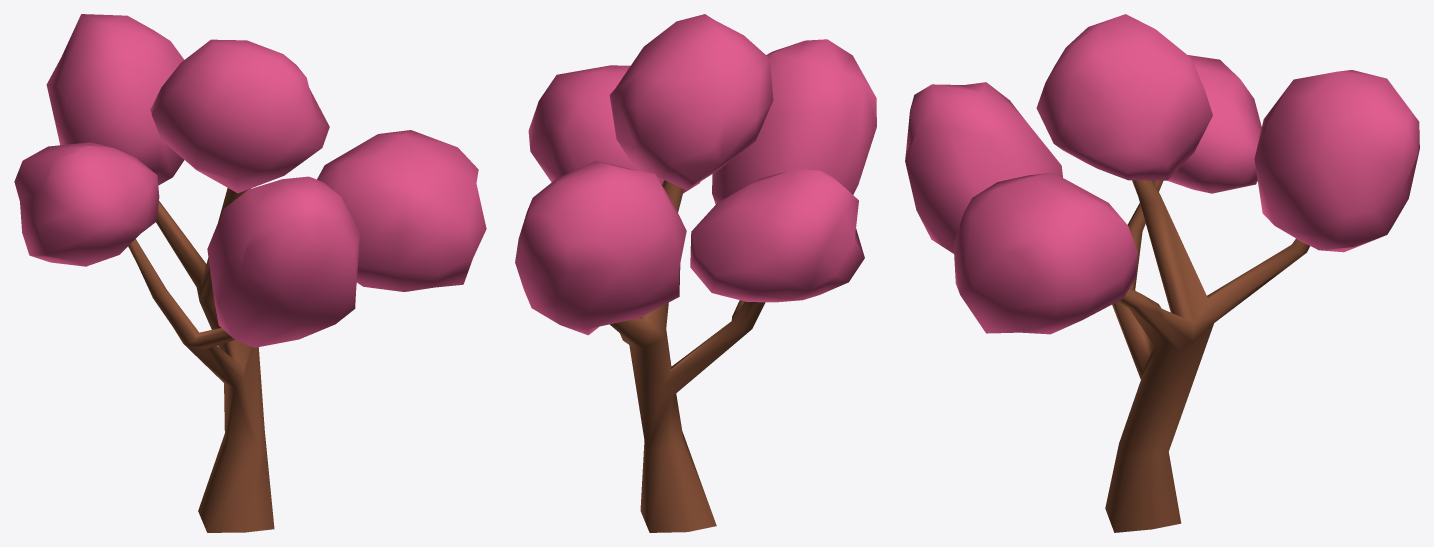
Rendered from Tree_2.fbx.
3 views of the same model, side by side, from view 1: azimuth 30°, elevation 25°; view 2: azimuth 150°, elevation 25°; view 3: azimuth 270°, elevation 25° (orthographic).
Parts seen in each view (by area): view 1: Tree_2; view 2: Tree_2; view 3: Tree_2.
Part boxes in pixels (box(x1,y1,x2,y2)): Tree_2: box(14, 14, 486, 532); Tree_2: box(515, 14, 876, 532); Tree_2: box(905, 14, 1419, 532).
Bounding box in the file's own units: 497 × 617 × 584.
